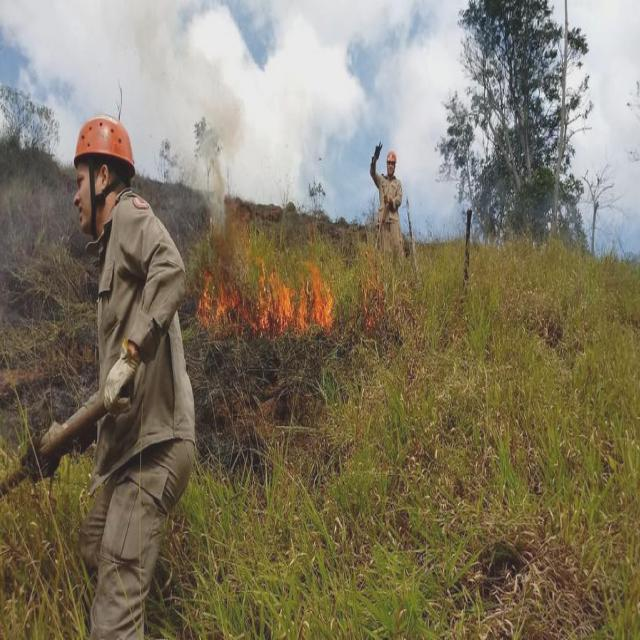Fire: (195, 234, 333, 329)
